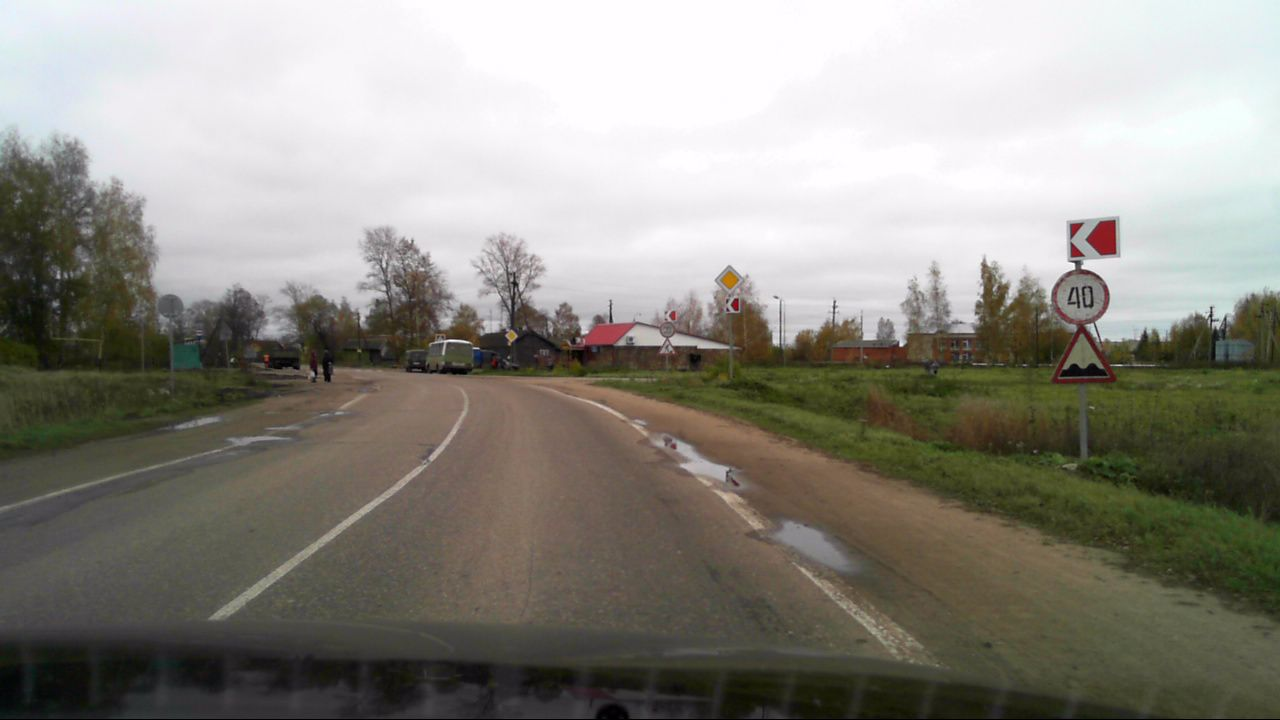speed_warning_40: (1051, 268, 1110, 326)
